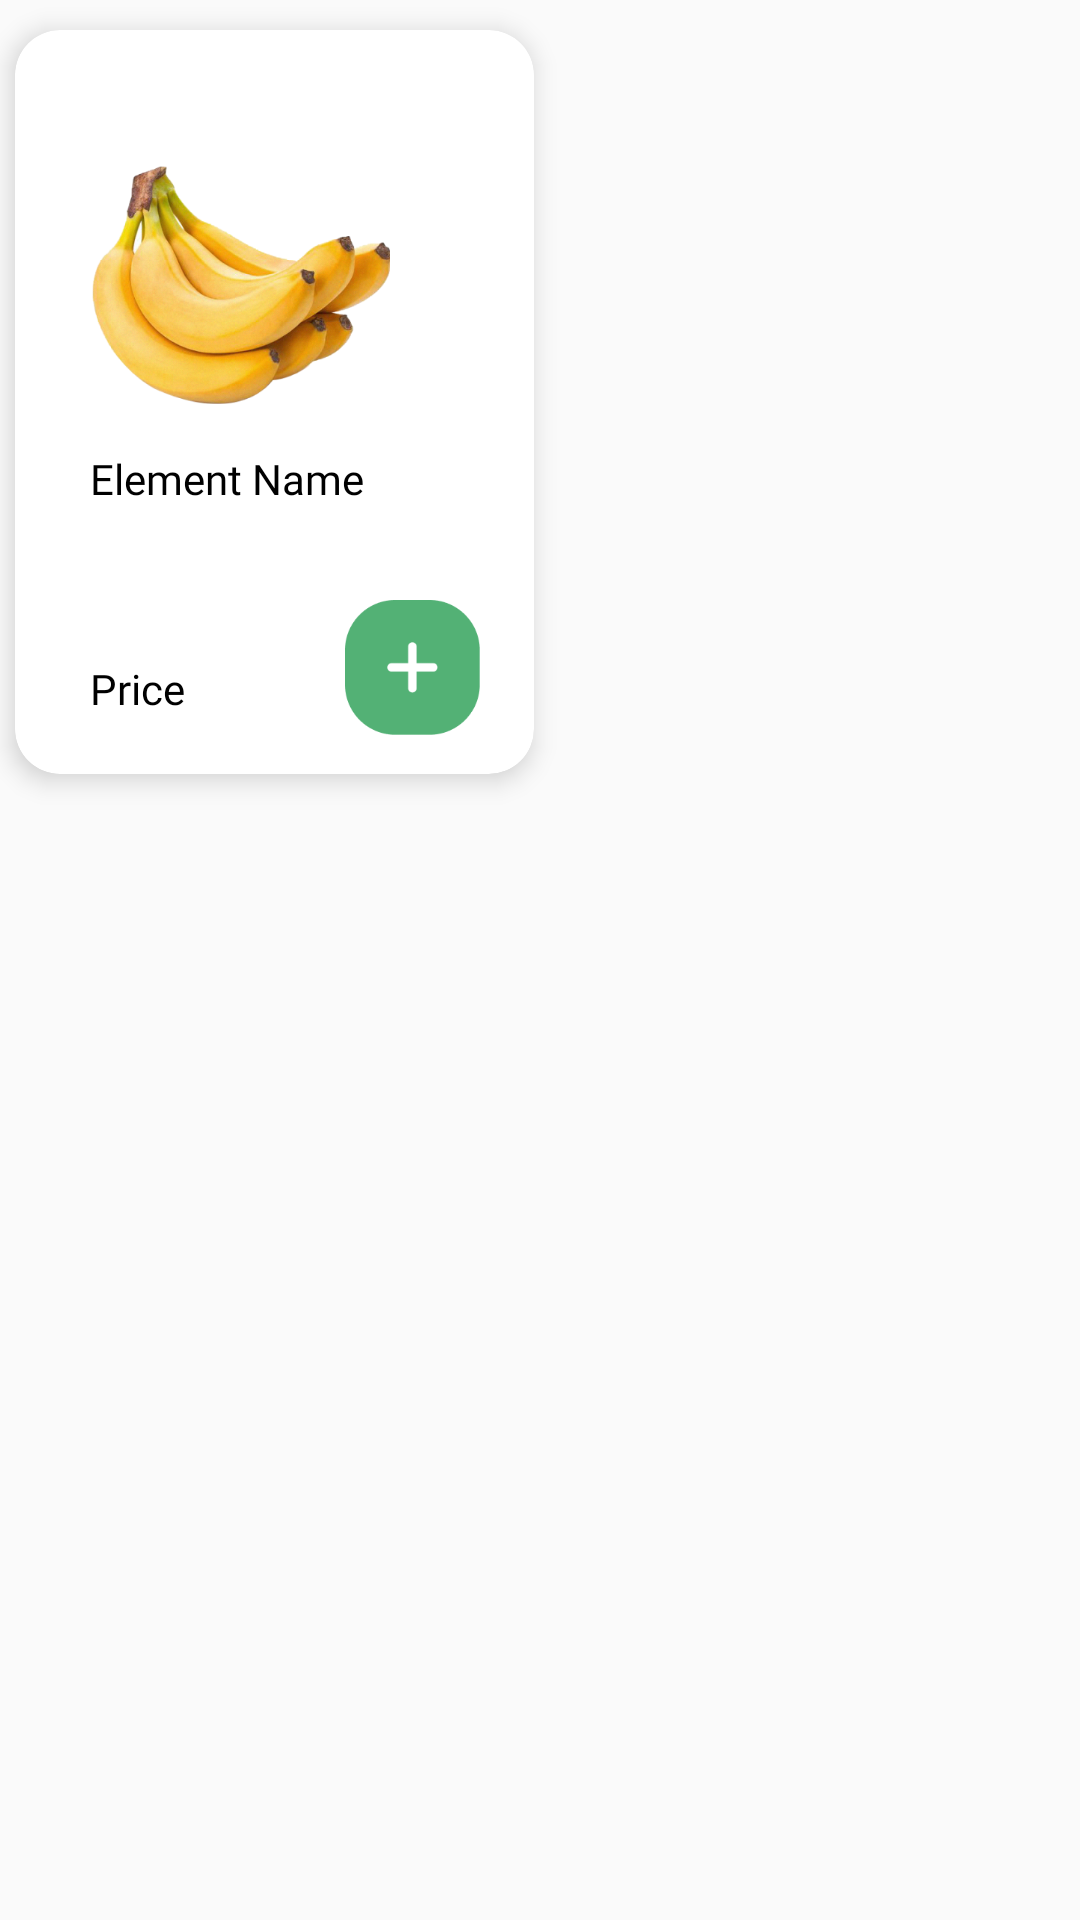

Icons on this 1080×1920 Android screen, each with the point to tap as (x,y):
banana: (241,285)
greenbutton: (412,667)
